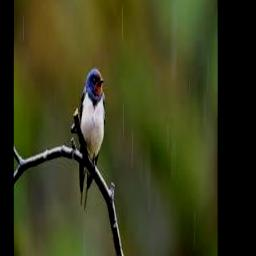Swallow: (79, 68, 106, 210)
